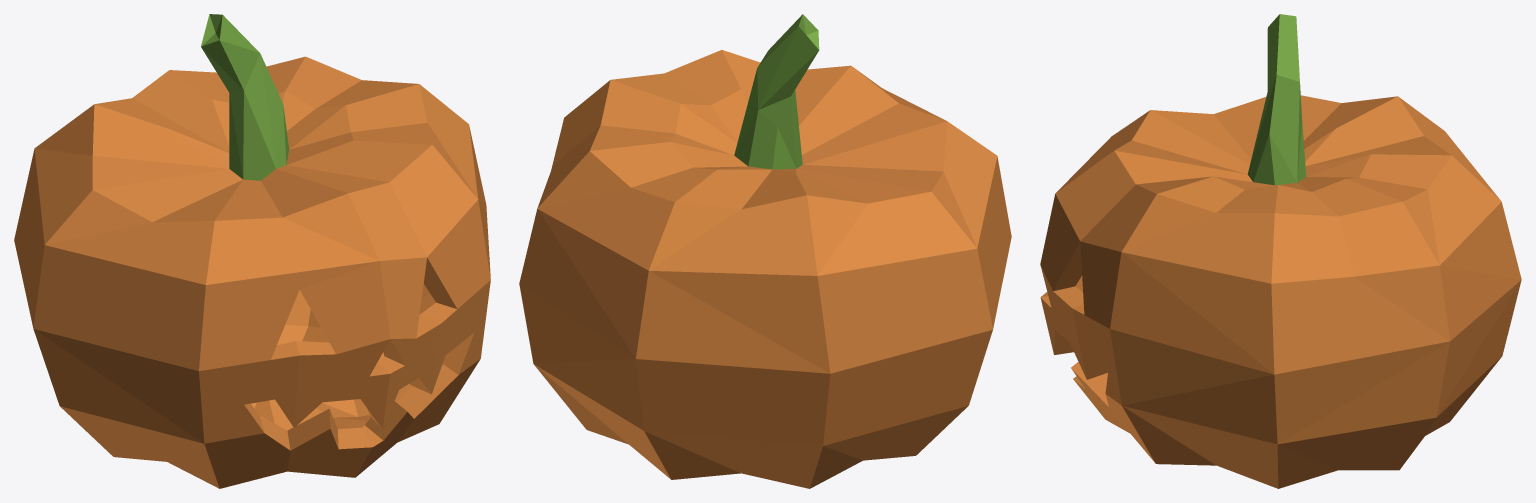
Rendered from jack-o-lantern.gltf.
3 renders of one model, left to right at view 1: azimuth 30°, elevation 25°; view 2: azimuth 150°, elevation 25°; view 3: azimuth 270°, elevation 25°, orthographic. The views are drawn at different scales.
Visible parts, largest first — view 1: Sphere; view 2: Sphere; view 3: Sphere.
Boxes of the visible parts, x1,y1,x2,y2 form: Sphere: [14, 14, 490, 488]; Sphere: [519, 14, 1011, 488]; Sphere: [1040, 14, 1521, 488].
Bounding box in the file's own units: 0.9182 × 0.8307 × 0.8935.
1 material, 1 textured.
